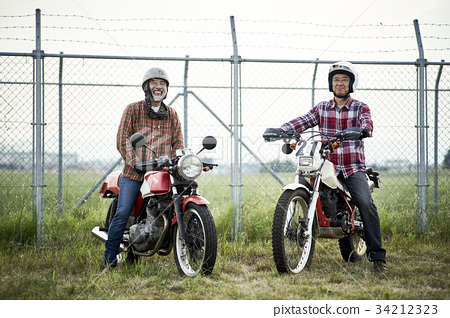helmet: (327, 58, 360, 91), (141, 67, 169, 88)
